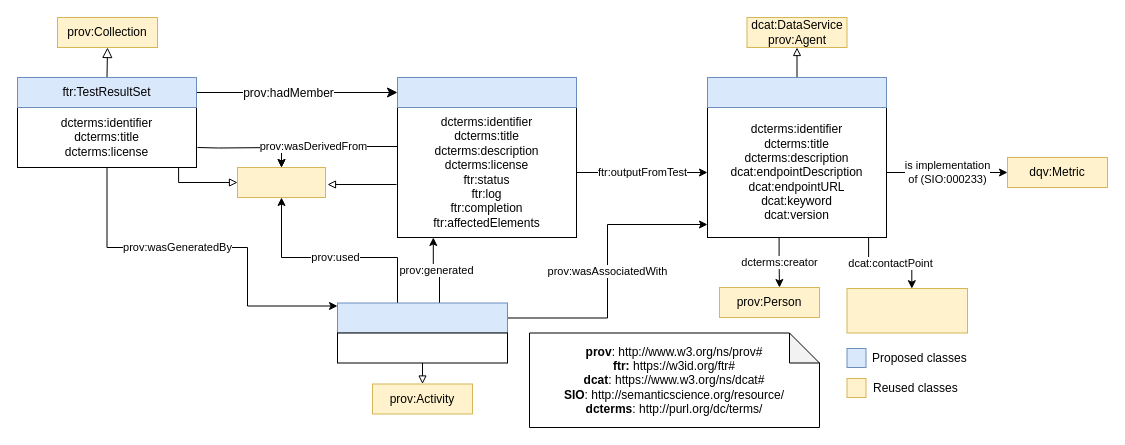
Some shapes in this 1125 by 445 pixel diagram are drawn without their labels. Each missing label, with the centre of its shape:
"ftr:Test" belongs at pixel 796 92.
"ftr:TestExecutionActivity" belongs at pixel 422 317.
"ftr:TestResult" belongs at pixel 486 92.
"prov:Entity" belongs at pixel 281 182.
"prov:Person prov:Organization" belongs at pixel 907 310.
